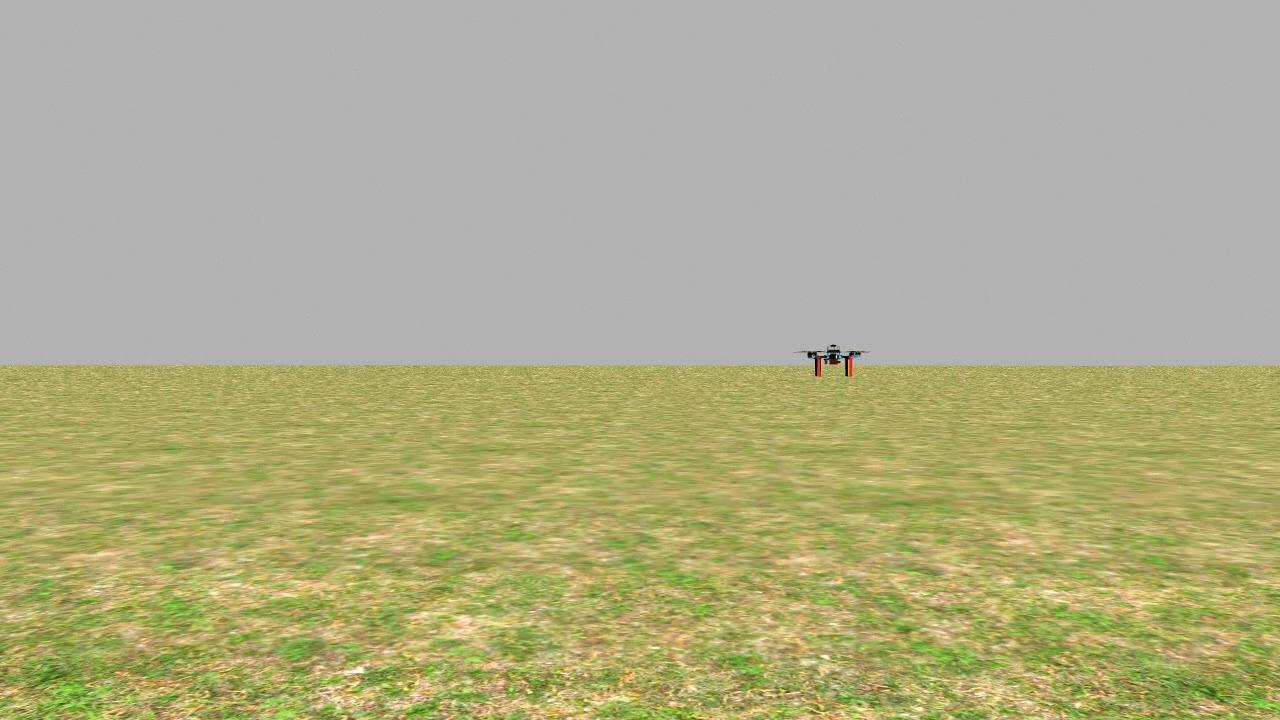UAV: (793, 319, 867, 393)
